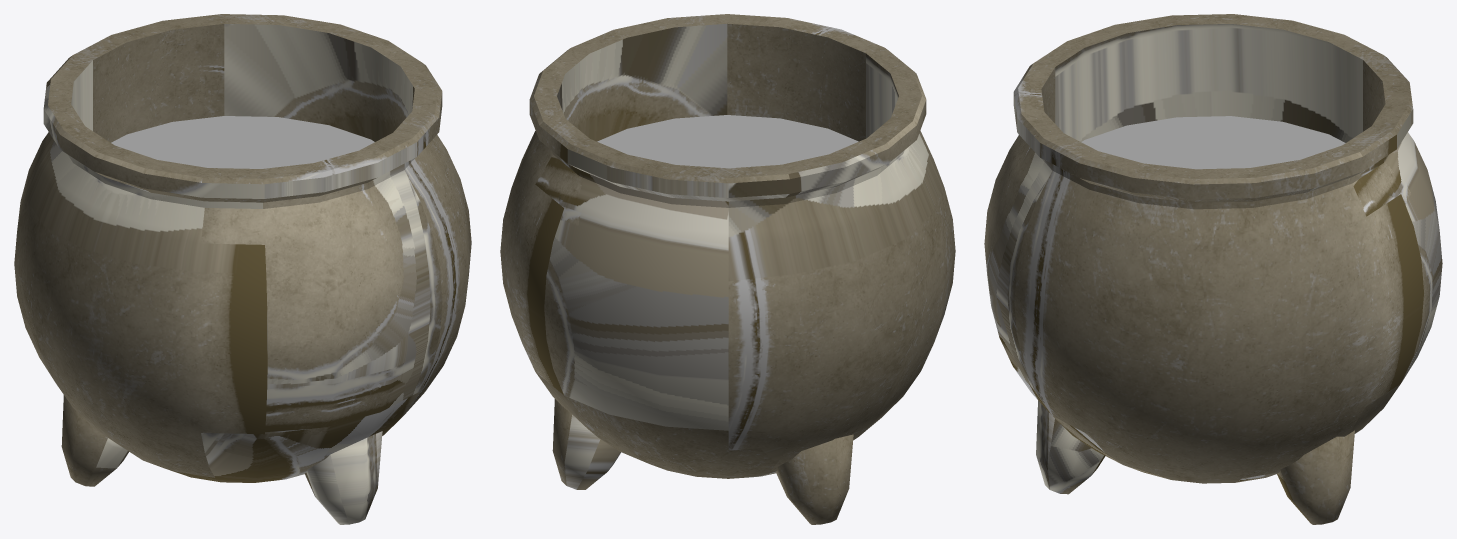
The model's file is Cauldron.fbx.
3 renders of one model, left to right at view 1: azimuth 30°, elevation 25°; view 2: azimuth 150°, elevation 25°; view 3: azimuth 270°, elevation 25°, orthographic.
Parts seen in each view (by area): view 1: polySurface3762; view 2: polySurface3762; view 3: polySurface3762.
Boxes of the visible parts, x1=… form: polySurface3762: x1=14, y1=14, x2=471, y2=524; polySurface3762: x1=500, y1=14, x2=955, y2=524; polySurface3762: x1=984, y1=14, x2=1442, y2=524.
Size of the model in its own units: 1.21 by 1.11 by 1.21.
